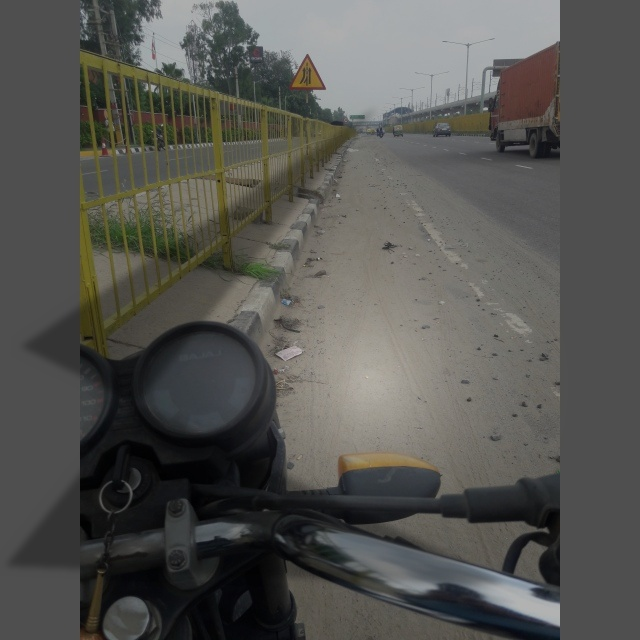Merge_Traffic_Ahead: (287, 47, 334, 97)
